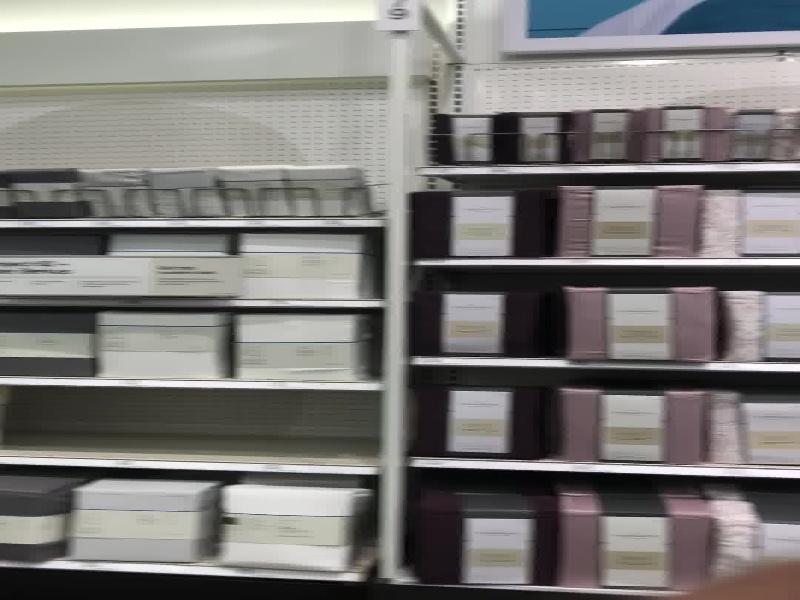empty_shelf_space: (1, 386, 376, 464)
